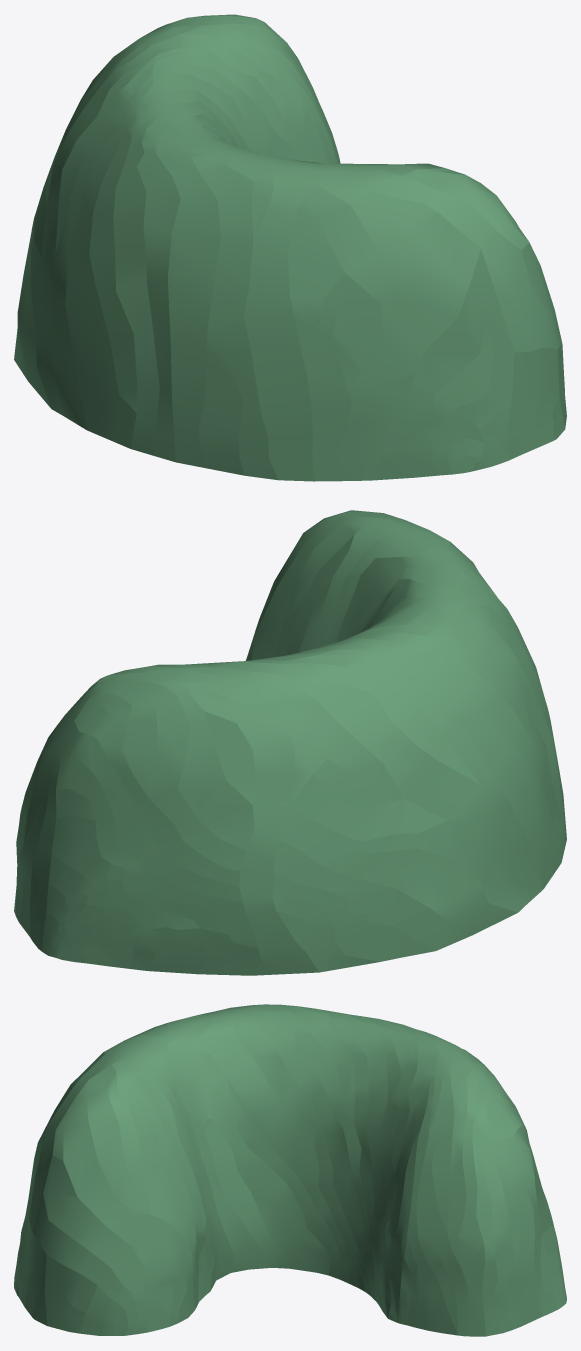
File: island_asian_J.fbx
3 views of the same model, one above another, from view 1: azimuth 30°, elevation 25°; view 2: azimuth 150°, elevation 25°; view 3: azimuth 270°, elevation 25° (orthographic). The views are drawn at different scales.
Visible parts, largest first — view 1: island_asian_J; view 2: island_asian_J; view 3: island_asian_J.
Boxes of the visible parts, <box> form: island_asian_J: <box>14,14,566,481</box>; island_asian_J: <box>14,510,566,975</box>; island_asian_J: <box>14,1004,566,1336</box>.
Size of the model in its own units: 3053 by 2083 by 4526.
